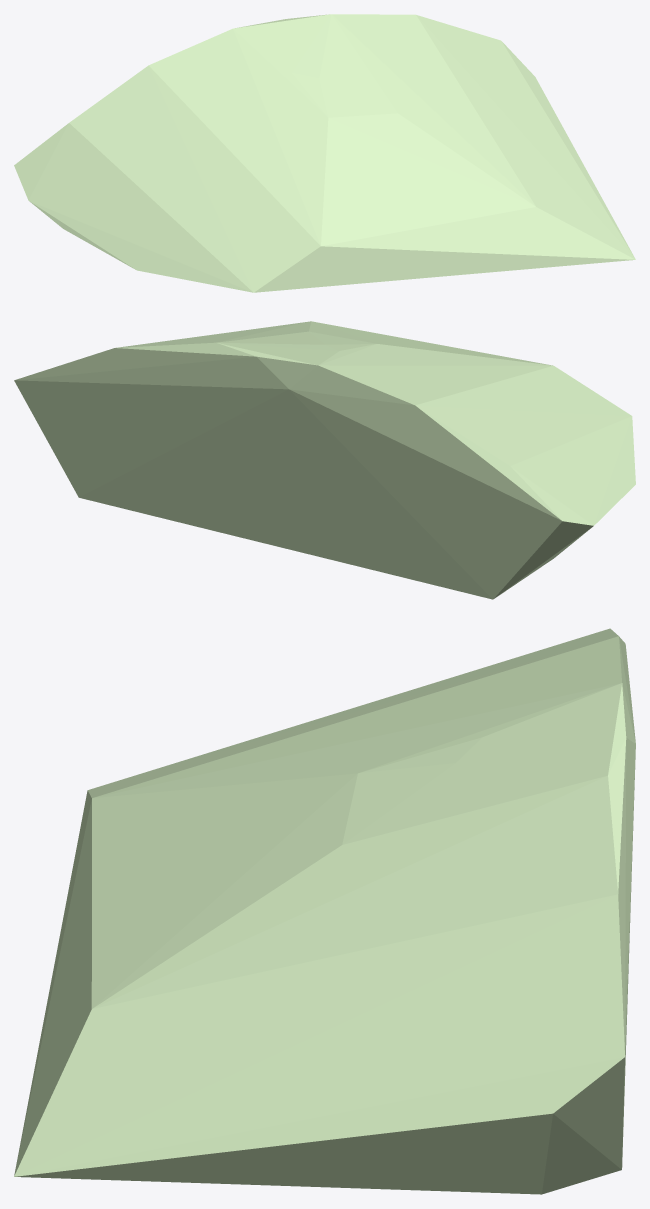
The model's file is kuka_URDF_robot_base_coll_4.dae.
3 renders of one model, top to bottom at view 1: azimuth 30°, elevation 25°; view 2: azimuth 150°, elevation 25°; view 3: azimuth 270°, elevation 25°, orthographic. The views are drawn at different scales.
Visible parts, largest first — view 1: Node_0000020FCC58E1D0; view 2: Node_0000020FCC58E1D0; view 3: Node_0000020FCC58E1D0.
Part boxes in pixels (<box>): Node_0000020FCC58E1D0: <box>14,14,635,292</box>; Node_0000020FCC58E1D0: <box>14,321,635,599</box>; Node_0000020FCC58E1D0: <box>14,628,635,1194</box>.
Bounding box in the file's own units: 0.1488 × 0.0476 × 0.0885.
